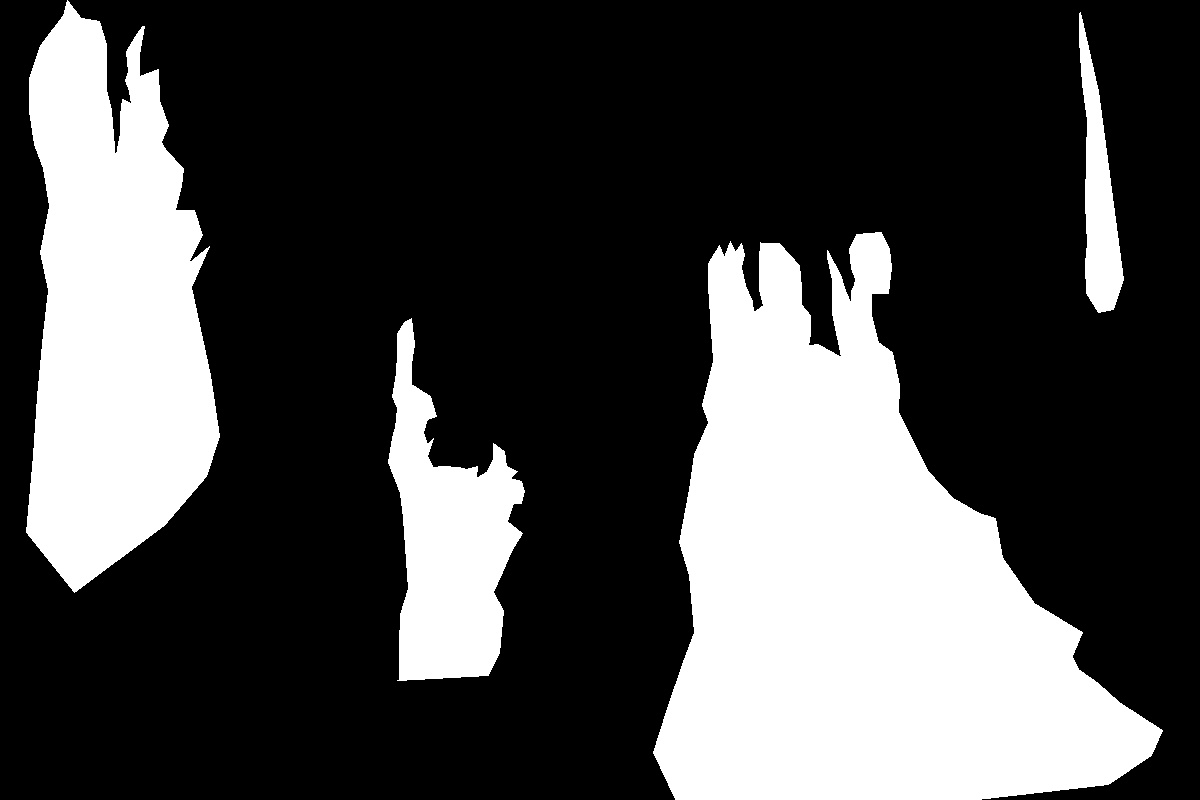Fire: (701, 245, 843, 427), (88, 22, 165, 150), (401, 335, 426, 425)
